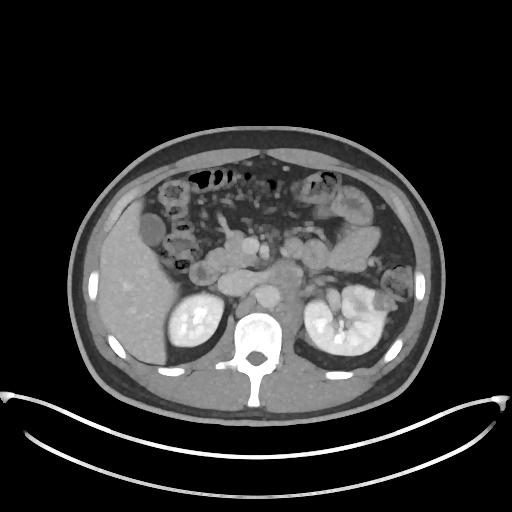Lesion: (370, 286, 397, 314)
